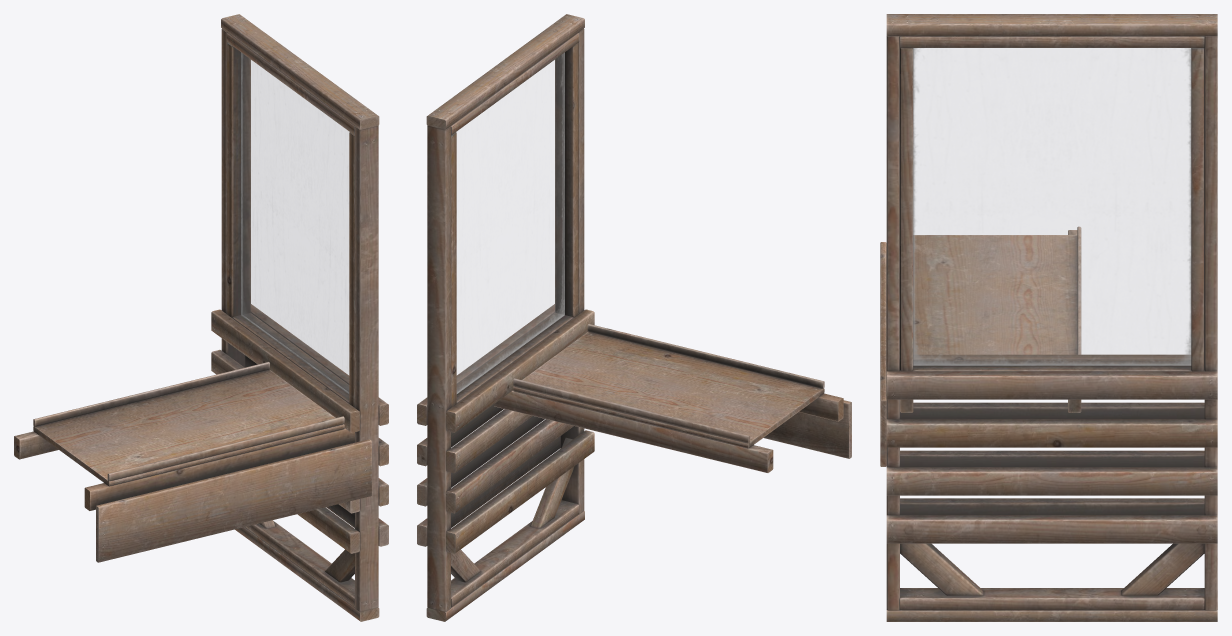
File: shooting_bench_pistol.glb
The picture shows the model from 3 angles, left to right: view 1: azimuth 30°, elevation 25°; view 2: azimuth 150°, elevation 25°; view 3: azimuth 270°, elevation 25°; orthographic projection. The views are drawn at different scales.
Visible parts, largest first — view 1: Bench_Pistol_Table_Bench_Pistol_0, Bench_Pistol_Wall_Bench_Pistol_0, Bench_Pistol_Glass_Bench_Pistol_Glass_0; view 2: Bench_Pistol_Wall_Bench_Pistol_0, Bench_Pistol_Table_Bench_Pistol_0, Bench_Pistol_Glass_Bench_Pistol_Glass_0; view 3: Bench_Pistol_Wall_Bench_Pistol_0, Bench_Pistol_Glass_Bench_Pistol_Glass_0, Bench_Pistol_Table_Bench_Pistol_0.
Boxes of the visible parts, x1,y1,x2,y2 form: Bench_Pistol_Table_Bench_Pistol_0: (14, 362, 371, 562); Bench_Pistol_Wall_Bench_Pistol_0: (211, 14, 388, 621); Bench_Pistol_Glass_Bench_Pistol_Glass_0: (241, 52, 349, 393); Bench_Pistol_Wall_Bench_Pistol_0: (417, 14, 594, 621); Bench_Pistol_Table_Bench_Pistol_0: (494, 324, 851, 472); Bench_Pistol_Glass_Bench_Pistol_Glass_0: (456, 52, 564, 393); Bench_Pistol_Wall_Bench_Pistol_0: (886, 14, 1217, 621); Bench_Pistol_Glass_Bench_Pistol_Glass_0: (913, 48, 1191, 365); Bench_Pistol_Table_Bench_Pistol_0: (880, 226, 1081, 466).
Bounding box in the file's own units: 1.55 × 2.53 × 1.3.
2 materials, 2 textured.
